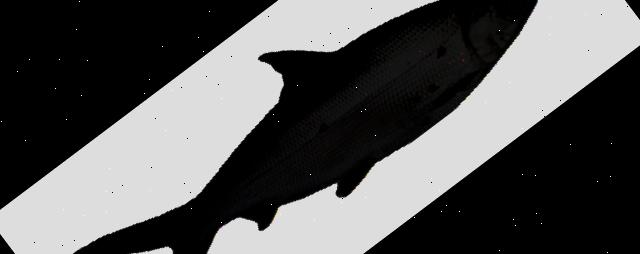Parasitic Disease: (74, 0, 536, 254), (74, 0, 536, 254)
